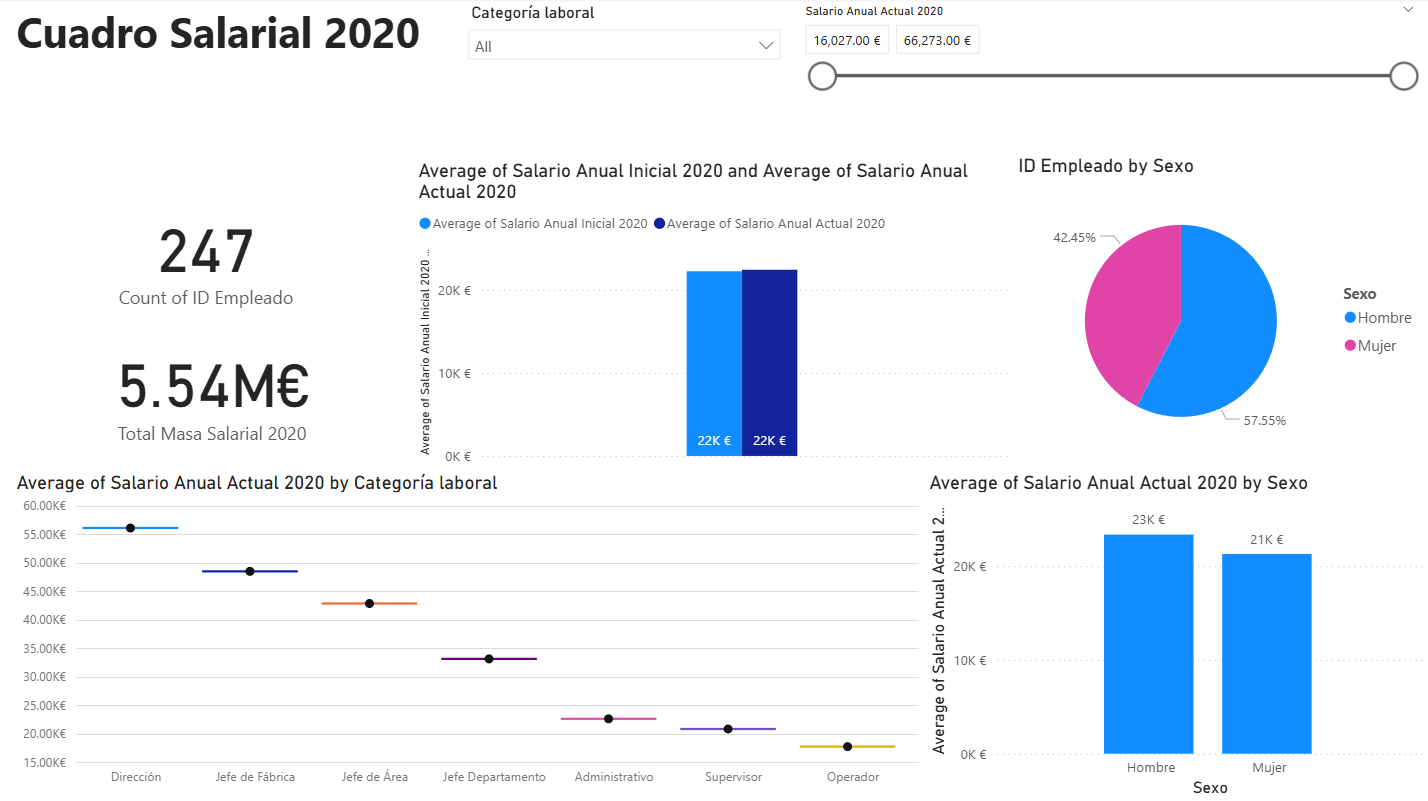

What the dashboard file says about the page in this screenshot:
{"tool":"powerbi","page":{"name":"Salarial","canvas":[1280,720],"ordinal":0},"visuals":[{"type":"clusteredColumnChart","fields":{"Y":["Avg(Base de Datos.Salario Anual Inicial 2020)","Avg(Base de Datos.Salario Anual Actual 2020)"]},"box":[370.5,144,537.8,279.9],"z":0},{"type":"BoxWhiskerChart1455240051538","fields":{"Values":["Avg(Base de Datos.Salario Anual Actual 2020)"],"Groups":["Base de Datos.Categoría laboral"]},"box":[10.5,424,817.7,296.2],"z":1000},{"type":"clusteredColumnChart","fields":{"Y":["Avg(Base de Datos.Salario Anual Actual 2020)"],"Category":["Base de Datos.Sexo"]},"box":[828.2,424,451.8,296.2],"z":2000},{"type":"pieChart","fields":{"Category":["Base de Datos.Sexo"],"Y":["Sum(Base de Datos.ID Empleado)"]},"box":[908.3,139.4,371.7,279.9],"z":3000},{"type":"card","fields":{"Values":["Sum(Base de Datos.Salario Anual Actual 2020)"]},"box":[10.5,283.4,360.1,135.9],"z":4000},{"type":"textbox","box":[10.5,0,389.1,76.7],"z":5000},{"type":"slicer","fields":{"Values":["Base de Datos.Categoría laboral"]},"box":[410,0,299.7,76.7],"z":6000},{"type":"slicer","fields":{"Values":["Base de Datos.Salario Anual Actual 2020"]},"box":[709.7,0,570.3,120.8],"z":7000},{"type":"card","fields":{"Values":["CountNonNull(Base de Datos.ID Empleado)"]},"box":[0,176.6,370.5,106.9],"z":8000}]}

Visuals, with their boxes in screenshot pixels (x1, y1, x2, y2), scaled from the page's 1280x720 canvas onto the 1428x801 screenshot:
clusteredColumnChart - Avg(Base de Datos.Salario Anual Inicial 2020) x Avg(Base de Datos.Salario Anual Actual 2020): rect(413, 160, 1013, 472)
BoxWhiskerChart1455240051538 - Avg(Base de Datos.Salario Anual Actual 2020) x Base de Datos.Categoría laboral: rect(12, 472, 924, 800)
clusteredColumnChart - Avg(Base de Datos.Salario Anual Actual 2020) x Base de Datos.Sexo: rect(924, 472, 1427, 800)
pieChart - Base de Datos.Sexo x Sum(Base de Datos.ID Empleado): rect(1013, 155, 1427, 466)
card - Sum(Base de Datos.Salario Anual Actual 2020): rect(12, 315, 413, 466)
textbox: rect(12, 0, 446, 85)
slicer - Base de Datos.Categoría laboral: rect(457, 0, 792, 85)
slicer - Base de Datos.Salario Anual Actual 2020: rect(792, 0, 1427, 134)
card - CountNonNull(Base de Datos.ID Empleado): rect(0, 196, 413, 315)
